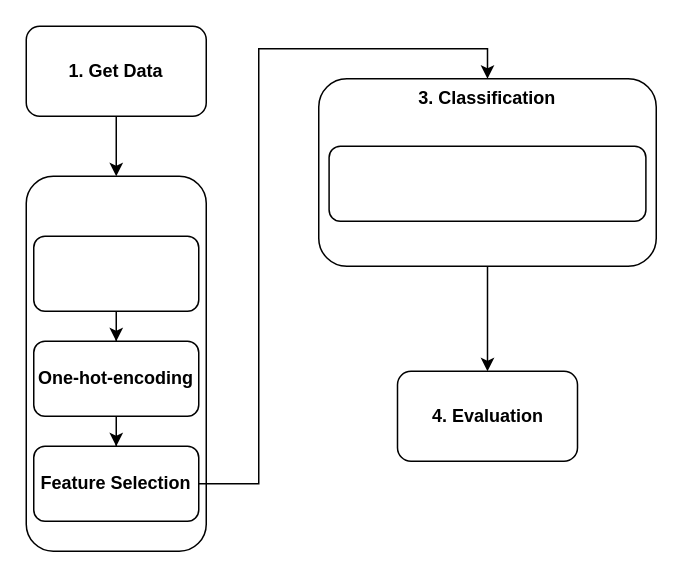
Some shapes in this 683 by 578 pixel diagram are drawn without their labels. Here are the shapes that lost their labels. From the top down, the box of each, then its label:
(328, 145, 646, 221): SNN/MLP/LR/DT/RF/GBC/K-NN
(32, 235, 199, 311): Normalization
(25, 175, 206, 551): 2. Preprocessing
